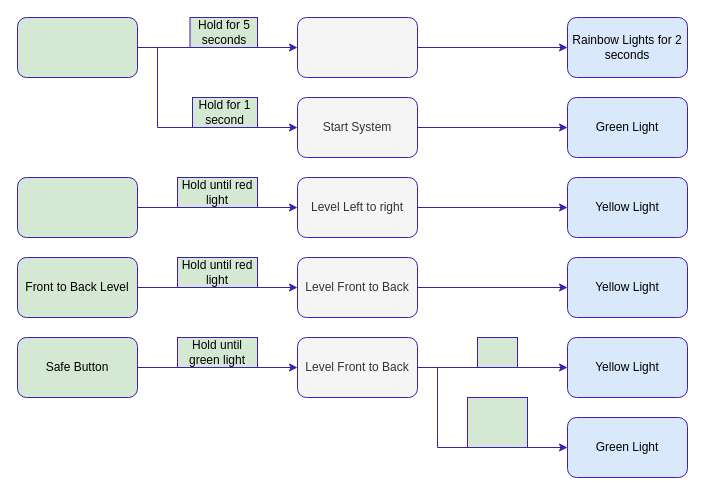
Some shapes in this 705 by 495 pixel diagram are drawn without their labels. Here are the shapes that lost their labels. From the top down, the centre of each, then its label:
the point at 77,47: Init Button
the point at 357,47: Calibrate Level
the point at 77,207: Left to Right Level
the point at 497,352: If not up
the point at 497,422: If limit switches activate
